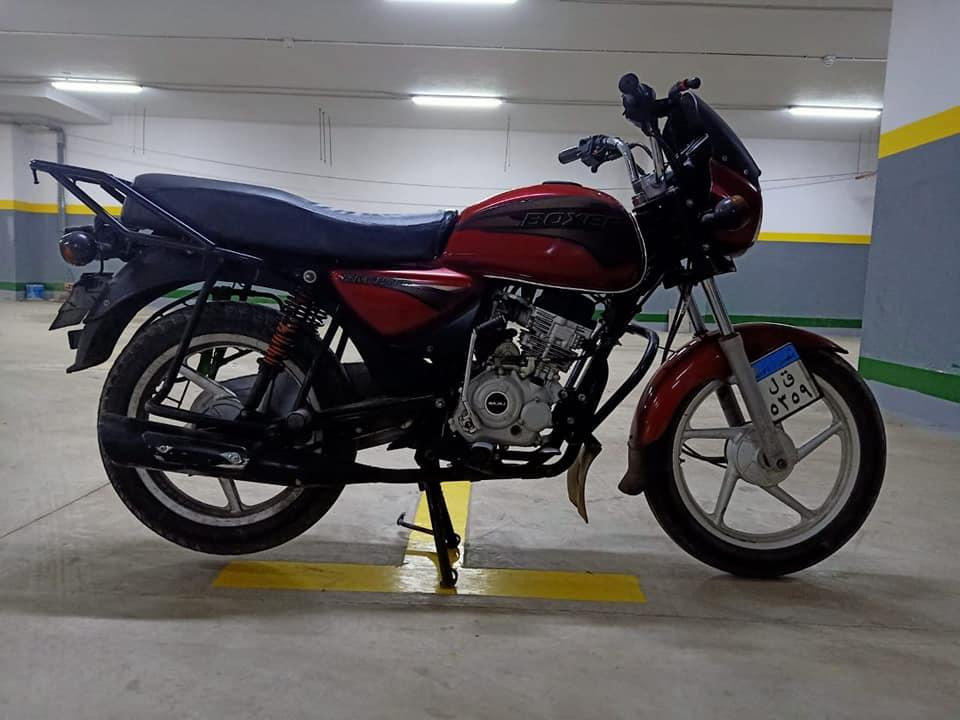License Plate: (748, 343, 820, 422)
